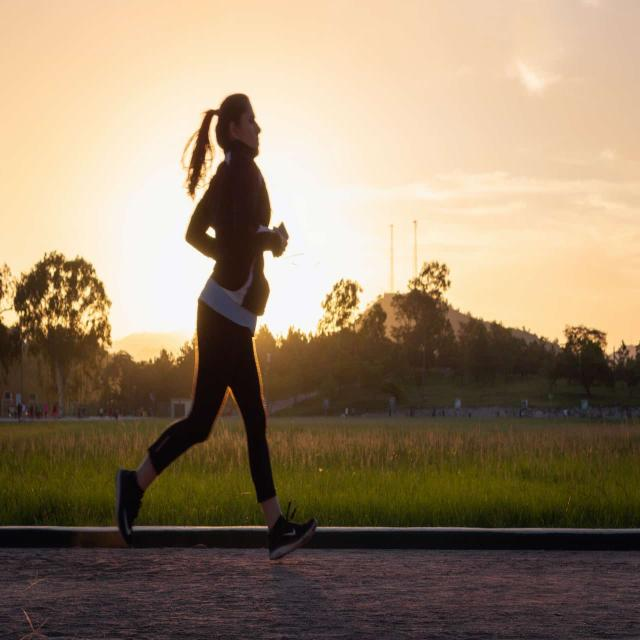Person: (115, 93, 316, 562)
